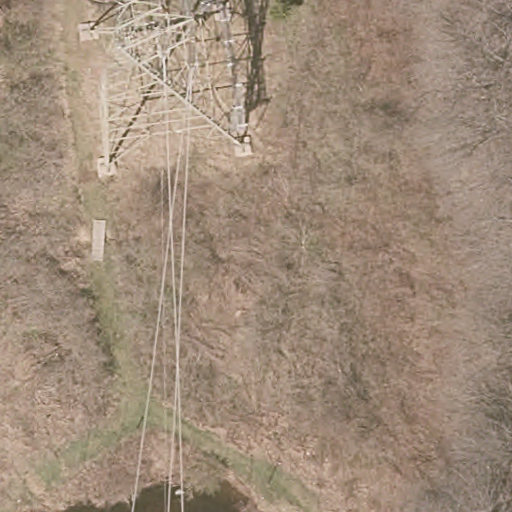TT: (80, 1, 262, 180)
